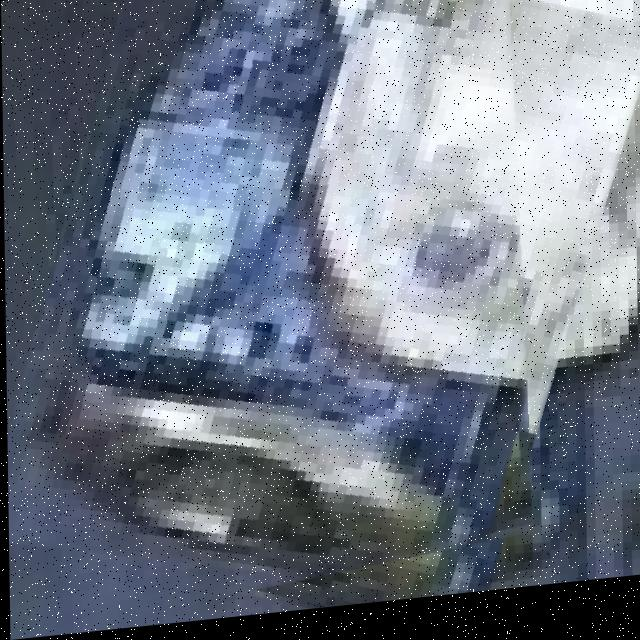litter: (5, 0, 526, 588)
